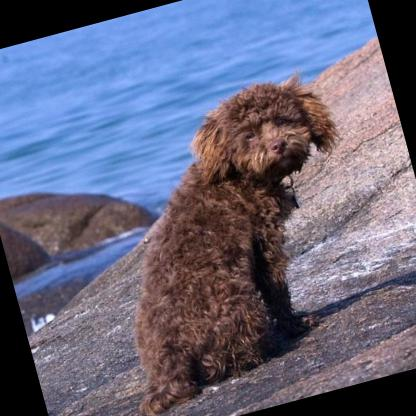miniature_poodle: (61, 59, 401, 416)
